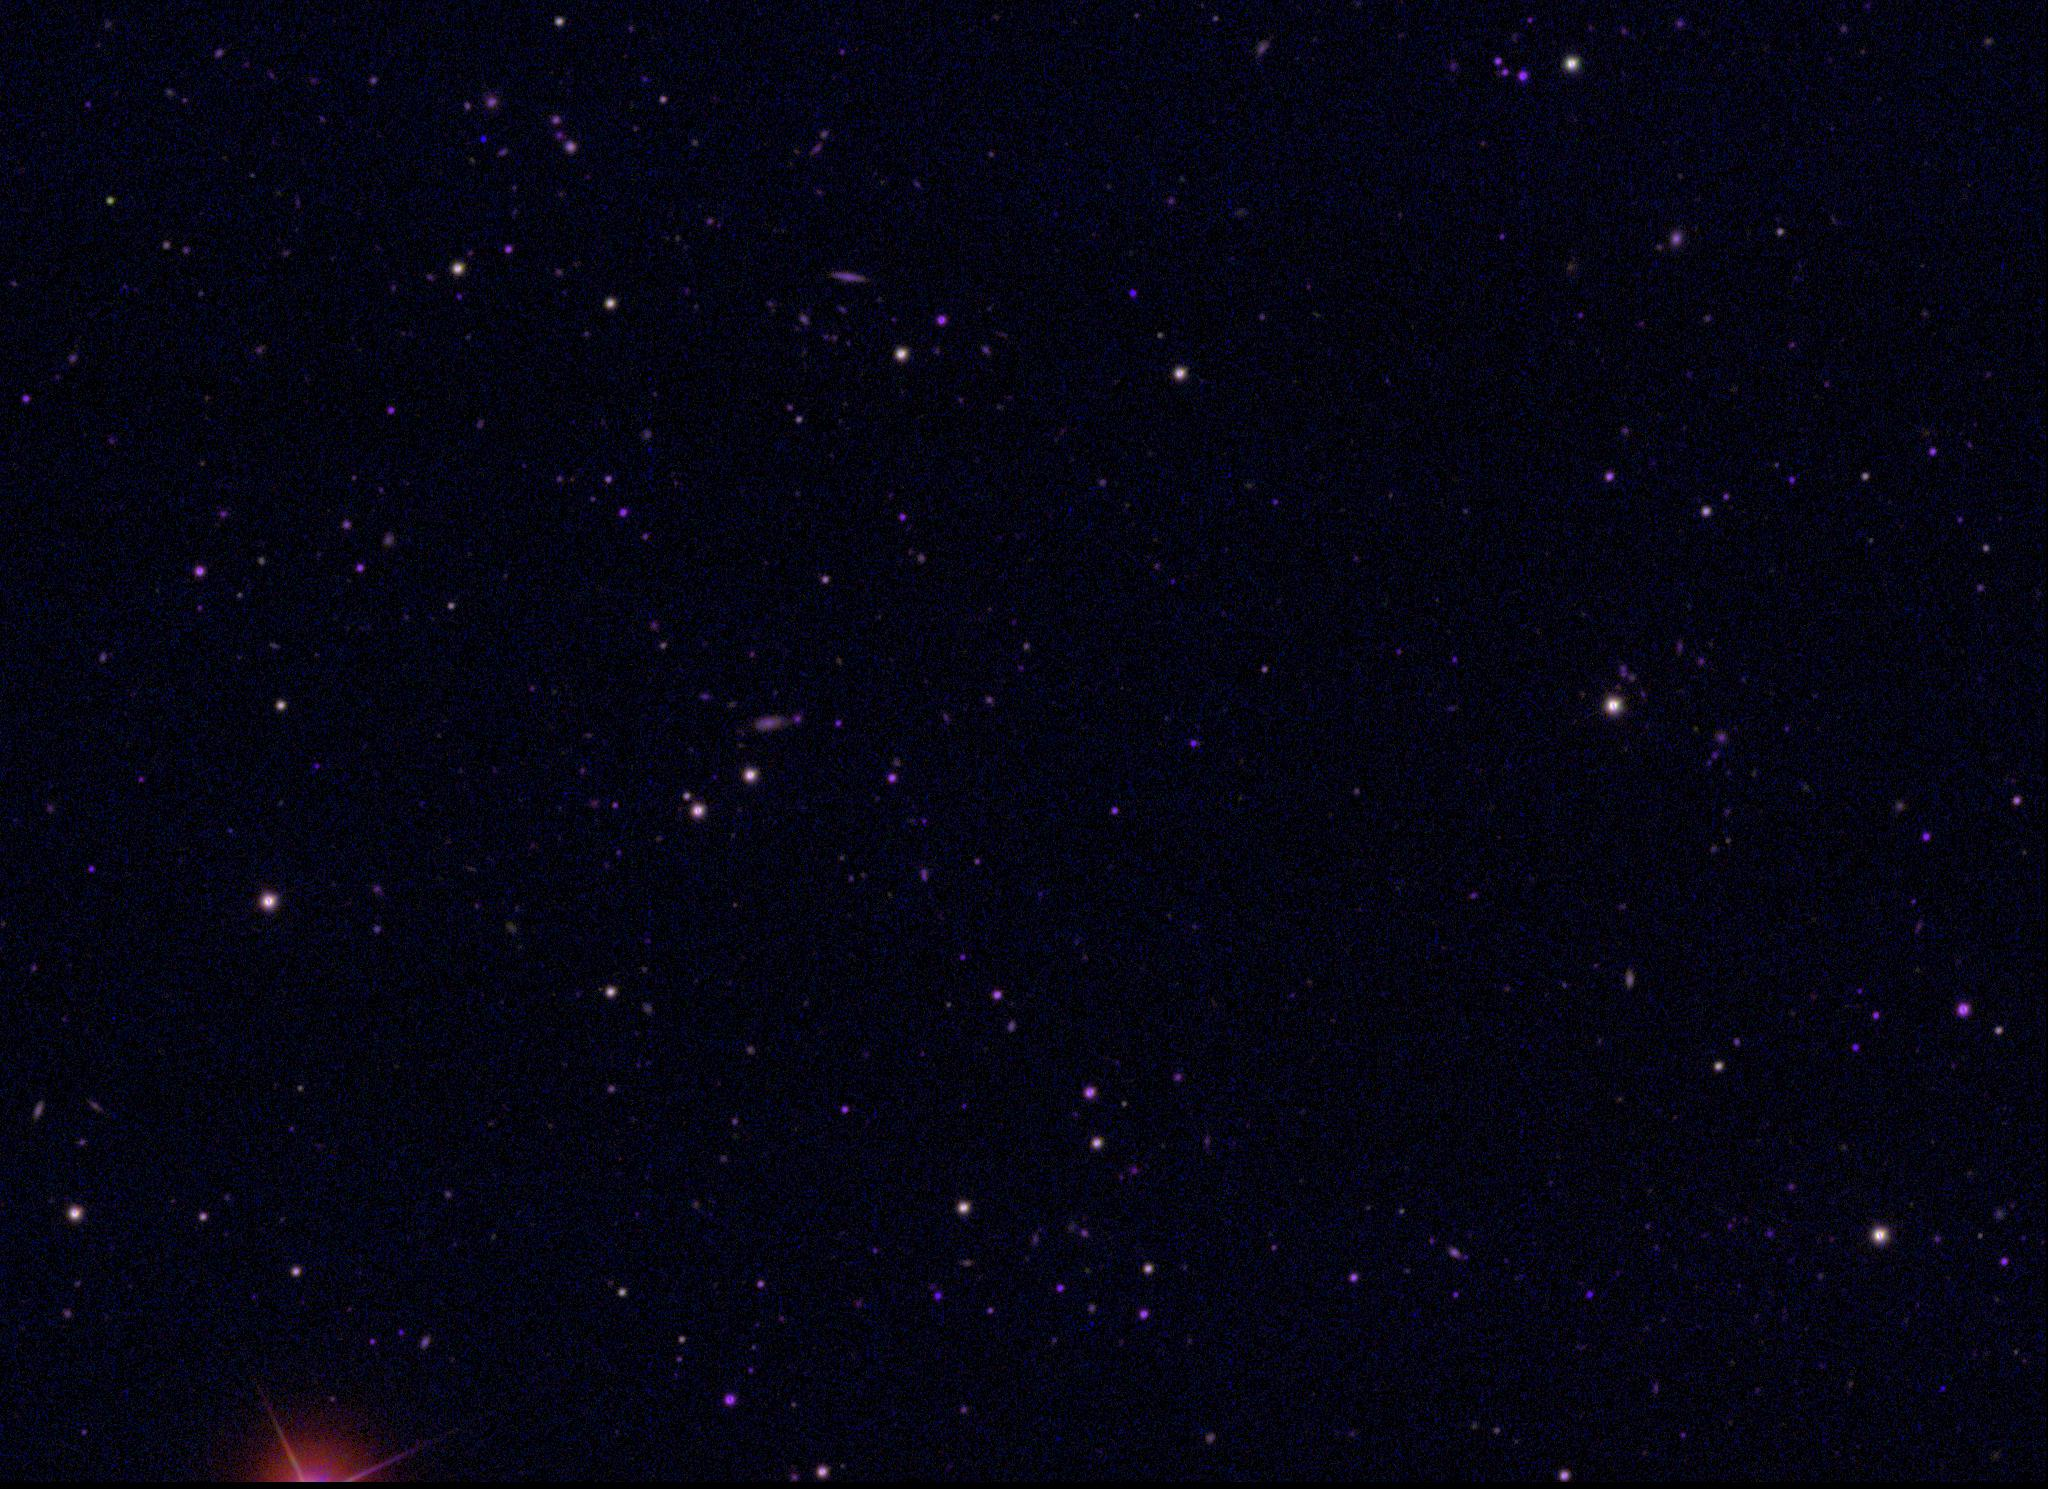L: (472, 130, 487, 145)
